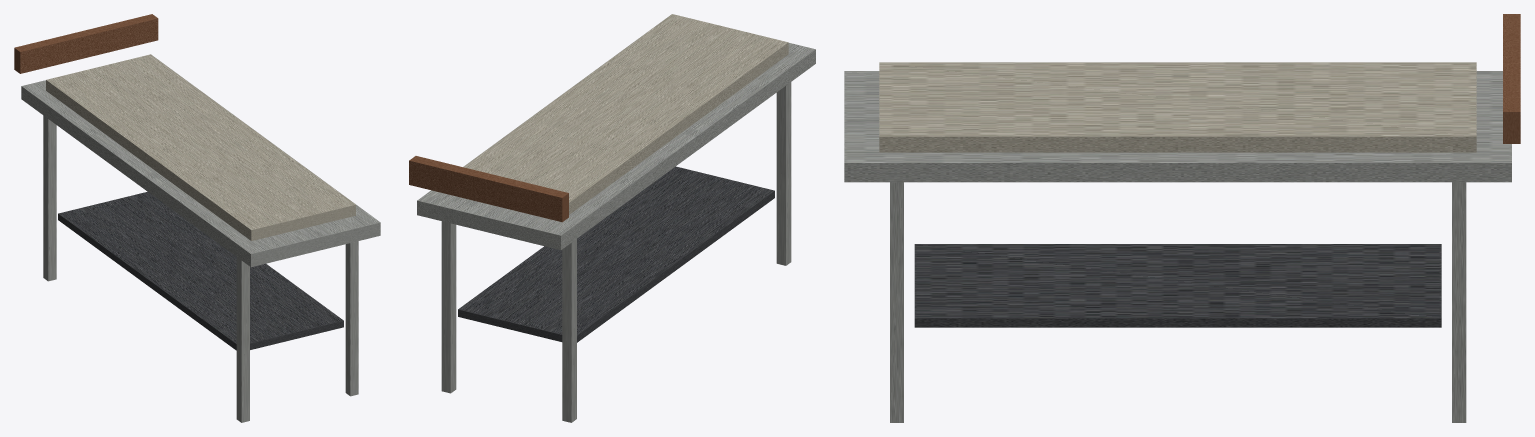
The picture shows the model from 3 angles, left to right: view 1: azimuth 30°, elevation 25°; view 2: azimuth 150°, elevation 25°; view 3: azimuth 270°, elevation 25°; orthographic projection. The views are drawn at different scales.
Visible parts, largest first — view 1: synthetic; view 2: synthetic; view 3: synthetic.
Boxes of the visible parts, <box> form: synthetic: <box>14,14,380,422</box>; synthetic: <box>409,14,815,422</box>; synthetic: <box>844,14,1520,422</box>.
Size of the model in its own units: 1.58 by 2.4 by 4.62.
1 material, 1 textured.
